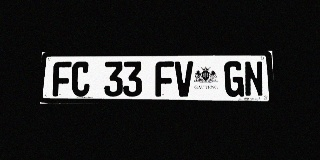3: (123, 61, 142, 97), (104, 61, 123, 96)
C: (71, 61, 90, 96)
F: (155, 61, 174, 97), (52, 62, 71, 96)
G: (224, 61, 244, 97)
N: (244, 61, 264, 97)
V: (174, 61, 193, 97)
